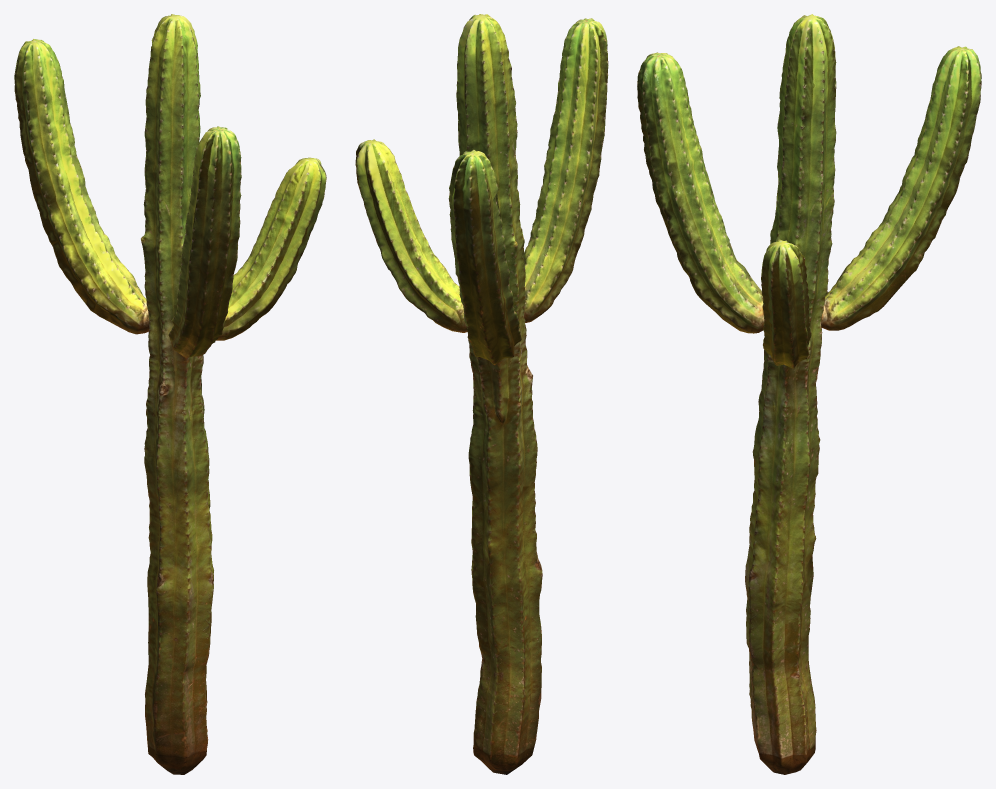
The picture shows the model from 3 angles, left to right: view 1: azimuth 30°, elevation 25°; view 2: azimuth 150°, elevation 25°; view 3: azimuth 270°, elevation 25°; orthographic projection. The views are drawn at different scales.
Parts seen in each view (by area): view 1: Aset_other__M_ueopfjiga_LOD0; view 2: Aset_other__M_ueopfjiga_LOD0; view 3: Aset_other__M_ueopfjiga_LOD0.
Boxes of the visible parts, bbox=[...] form: Aset_other__M_ueopfjiga_LOD0: bbox=[14, 14, 326, 774]; Aset_other__M_ueopfjiga_LOD0: bbox=[355, 14, 608, 774]; Aset_other__M_ueopfjiga_LOD0: bbox=[637, 14, 981, 774].
Size of the model in its own units: 0.4931 by 1.6 by 0.6573.
Materials: 1 (1 with a texture image).
